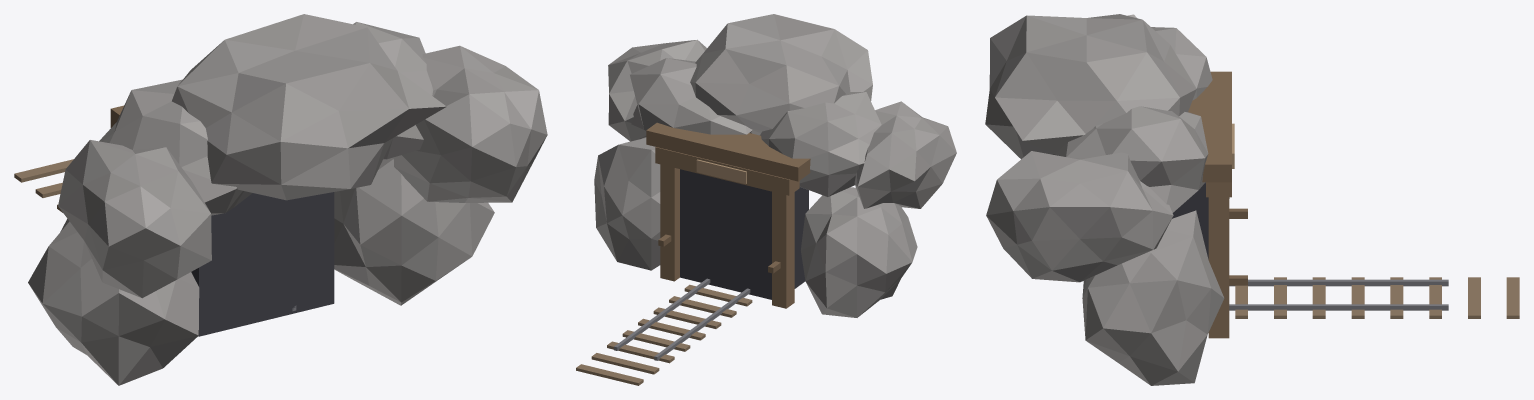
The model's file is mine_entrance.glb.
3 views of the same model, side by side, from view 1: azimuth 30°, elevation 25°; view 2: azimuth 150°, elevation 25°; view 3: azimuth 270°, elevation 25° (orthographic). The views are drawn at different scales.
Visible parts, largest first — view 1: mine_entrance; view 2: mine_entrance; view 3: mine_entrance.
Part boxes in pixels (left/top/right/bottom): mine_entrance: left=14, top=14, right=547, bottom=385; mine_entrance: left=576, top=14, right=956, bottom=385; mine_entrance: left=985, top=14, right=1519, bottom=385.
Size of the model in its own units: 7.17 by 5 by 8.27.
